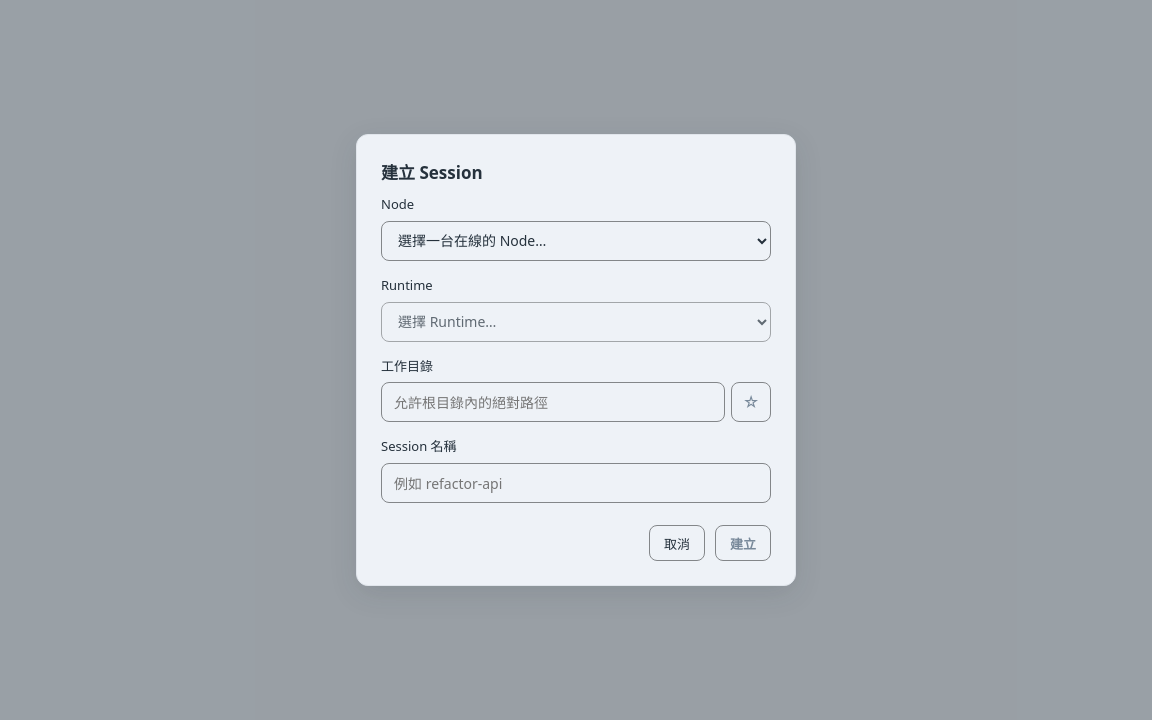
Scenario: NewSessionDialog shortcuts › reports why a refused favourite was not saved and leaves the star off
Select "vm (vm)" in the dropdown labelled "Node" at [576, 241], box x1=381 y1=221 x2=771 y2=261
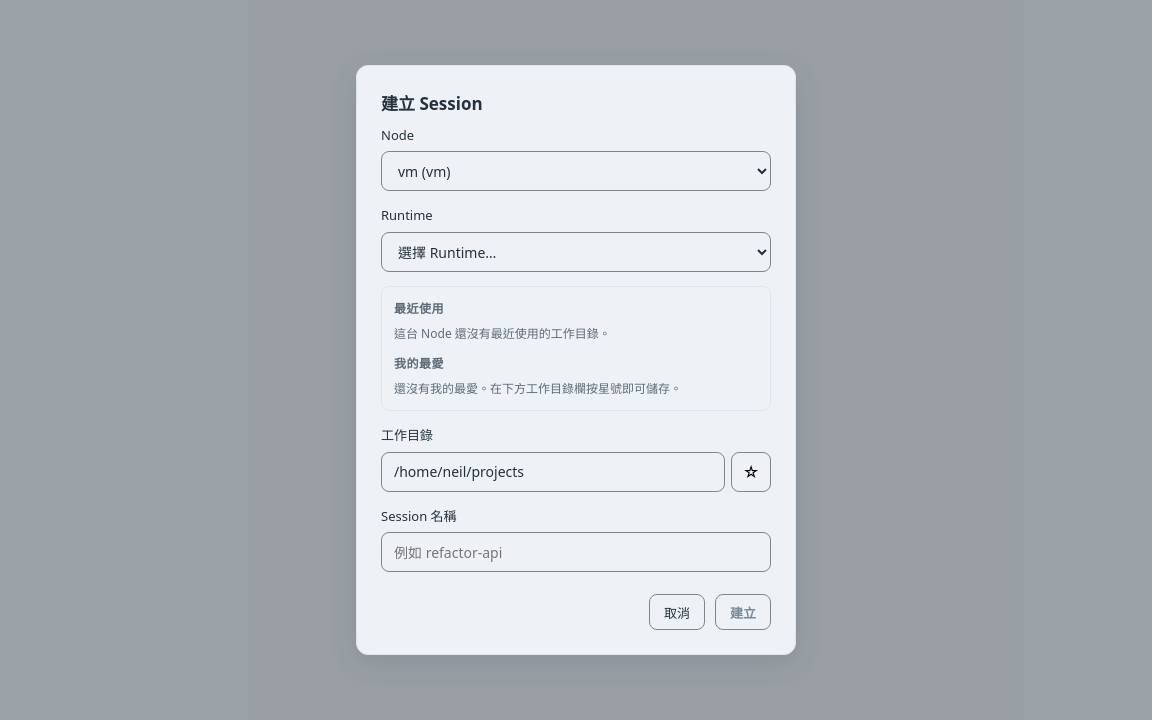
Replace the text in the field with placeholder "允許根目錄內的絕對路徑" with "/etc" at [553, 472], box x1=381 y1=452 x2=725 y2=492
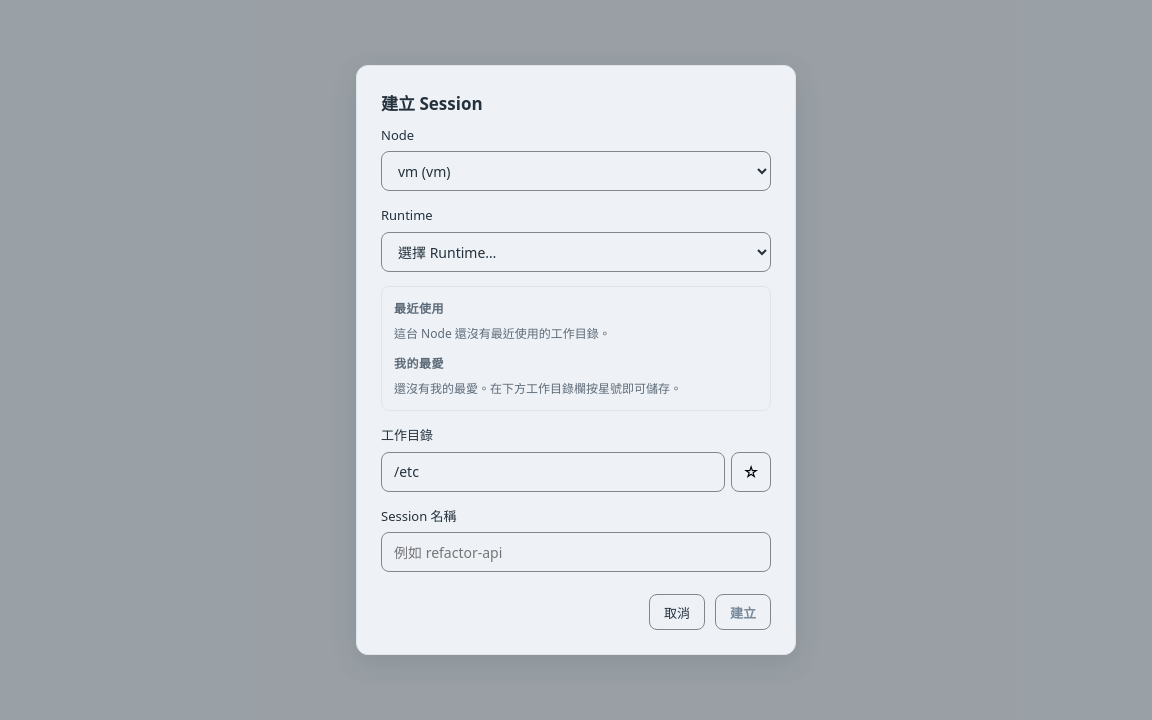
Click the button with class "star".
click(751, 472)  # box x1=731 y1=452 x2=771 y2=492
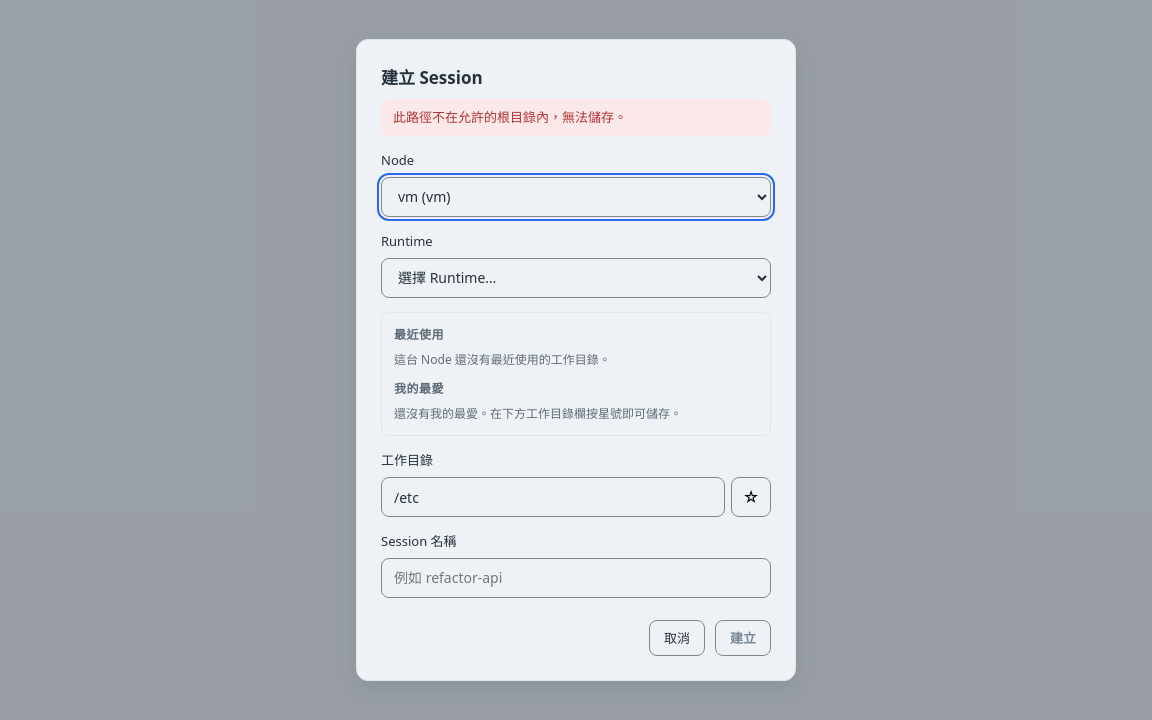
Now the message "此路徑不在允許的根目錄內，無法儲存。" is shown, box x1=381 y1=99 x2=771 y2=136
